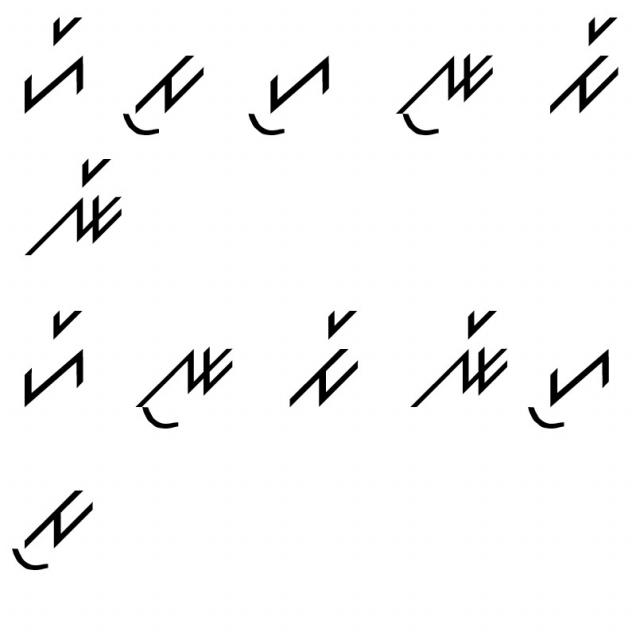har: (11, 6, 92, 122), (22, 308, 91, 413)
haw: (234, 50, 338, 143), (523, 340, 619, 438)
mbar: (541, 8, 628, 120), (282, 308, 370, 411)
mbaw: (9, 479, 105, 578), (116, 48, 208, 144)
ndar: (18, 148, 129, 260), (405, 302, 510, 411)
ndaw: (128, 328, 236, 439), (391, 42, 499, 140)
